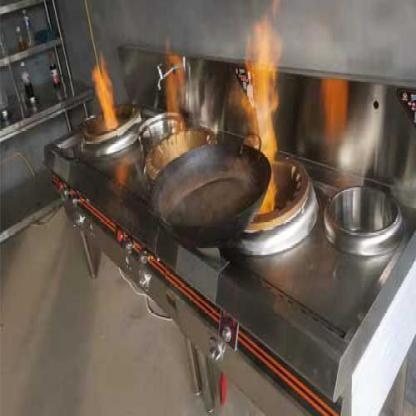fire: (250, 23, 276, 155), (320, 76, 350, 132), (164, 53, 182, 115), (92, 64, 110, 98), (101, 100, 116, 129), (261, 178, 274, 210)
